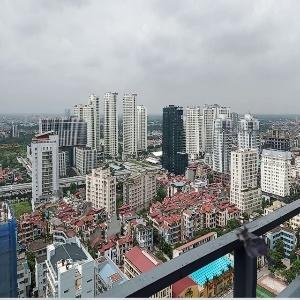drone: (218, 215, 291, 288)
